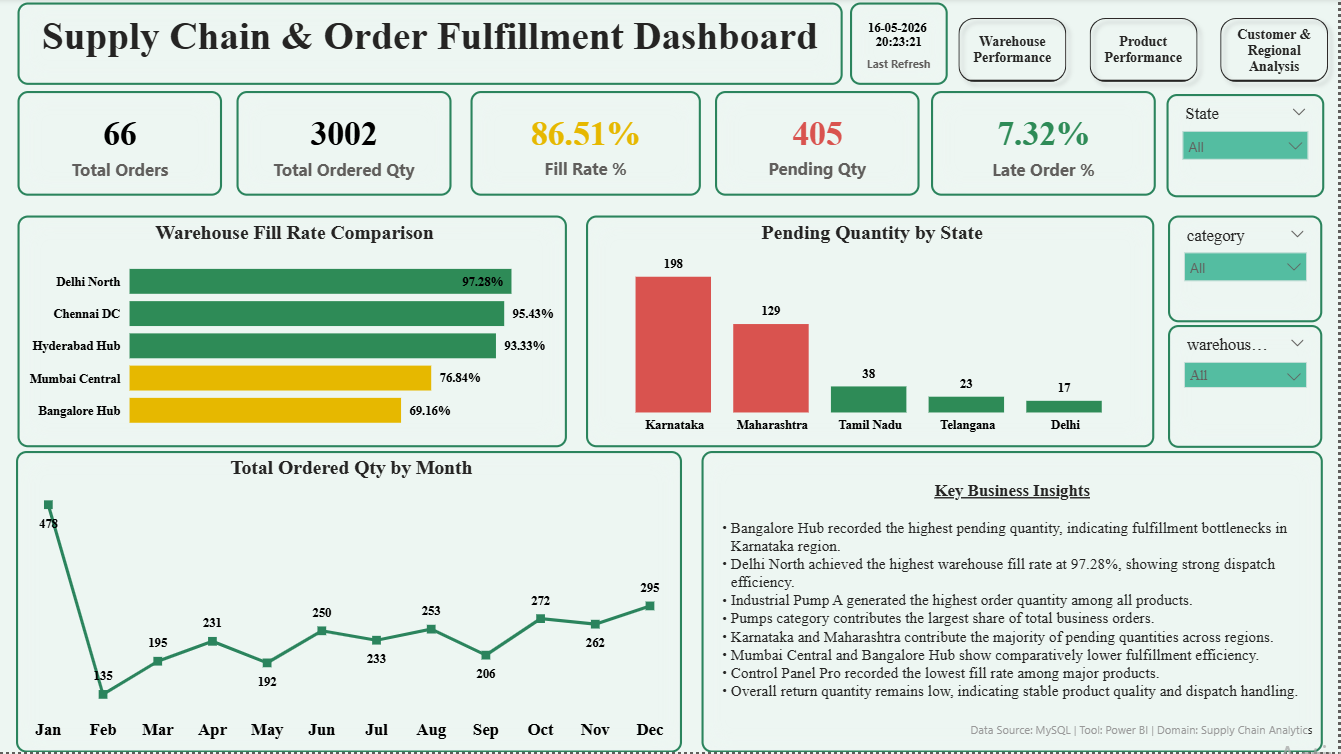

Layout of this report page (visuals, bound fields, positions):
{"tool":"powerbi","page":{"name":"Executive Overview","canvas":[1280,720],"ordinal":0},"visuals":[{"type":"card","fields":{"Values":["fact_order_fulfillment.Total Orders"]},"box":[19.1,89.1,195.6,100.2],"z":0},{"type":"card","fields":{"Values":["fact_order_fulfillment.Total Ordered Qty"]},"box":[227.5,89.1,205.2,100.2],"z":1000},{"type":"card","fields":{"Values":["fact_order_fulfillment.Fill Rate %"]},"box":[451.5,89.4,219.7,100],"z":2000},{"type":"card","fields":{"Values":["Query1.Pending Qty"]},"box":[684.8,89.4,195.5,100],"z":3000},{"type":"card","fields":{"Values":["fact_order_fulfillment.Late Order %"]},"box":[890.7,89.1,214.7,100.2],"z":4000},{"type":"lineChart","fields":{"Category":["Date_Table.Month"],"Y":["fact_order_fulfillment.Total Ordered Qty"]},"box":[17.5,432.7,636.3,287.9],"z":5000},{"type":"clusteredBarChart","title":"Warehouse Fill Rate Comparison","fields":{"Category":["Query1.warehouse_name"],"Y":["fact_order_fulfillment.Fill Rate %"]},"box":[19.1,208.4,524.9,221.1],"z":6000},{"type":"columnChart","title":"Pending Quantity by State","fields":{"Y":["fact_order_fulfillment.Pending Qty"],"Category":["Query1.state"]},"box":[561.5,208.4,542.4,221.1],"z":7000},{"type":"slicer","fields":{"Values":["Query1.state"]},"box":[1115.8,91.7,150.4,98.8],"z":8000},{"type":"slicer","fields":{"Values":["Query1.category"]},"box":[1117.3,207.7,147.5,101.7],"z":9000},{"type":"slicer","fields":{"Values":["Query1.warehouse_name"]},"box":[1117.3,312.3,147.5,117.5],"z":10000},{"type":"textbox","box":[18.6,4.3,787.8,78.8],"z":11000},{"type":"card","fields":{"Values":["Date_Table.Last Refresh"]},"box":[813.6,4.3,93.1,78.8],"z":12000},{"type":"pageNavigator","box":[908.2,9.5,372.2,79.5],"z":13000},{"type":"textbox","box":[671.3,432.7,593.3,287.9],"z":14000}]}

Visuals, with their boxes in screenshot pixels (x1, y1, x2, y2), scaled from the page's 1280x720 canvas onto the 1341x754 screenshot:
card - fact_order_fulfillment.Total Orders: 20/93/225/198
card - fact_order_fulfillment.Total Ordered Qty: 238/93/453/198
card - fact_order_fulfillment.Fill Rate %: 473/94/703/198
card - Query1.Pending Qty: 717/94/922/198
card - fact_order_fulfillment.Late Order %: 933/93/1158/198
lineChart - Date_Table.Month x fact_order_fulfillment.Total Ordered Qty: 18/453/685/753
"Warehouse Fill Rate Comparison" clusteredBarChart: 20/218/570/450
"Pending Quantity by State" columnChart: 588/218/1157/450
slicer - Query1.state: 1169/96/1327/199
slicer - Query1.category: 1171/218/1325/324
slicer - Query1.warehouse_name: 1171/327/1325/450
textbox: 19/5/845/87
card - Date_Table.Last Refresh: 852/5/950/87
pageNavigator: 951/10/1340/93
textbox: 703/453/1325/753
